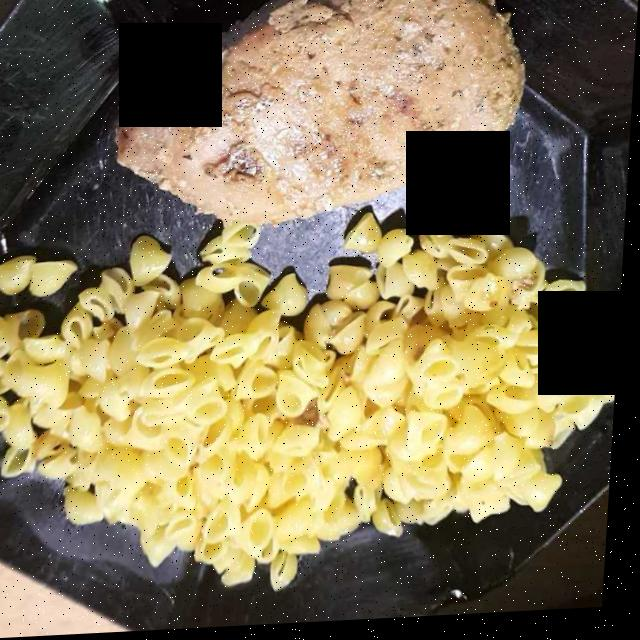pasta-in-conch-form: (0, 202, 608, 575)
pork: (128, 0, 522, 228)
